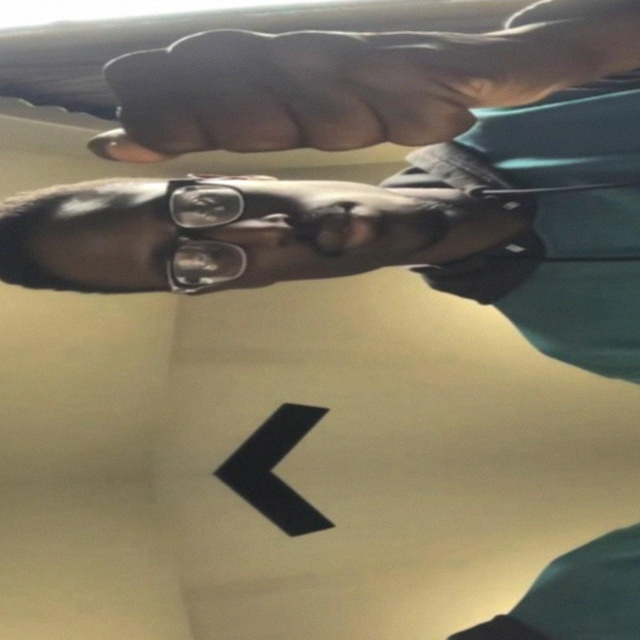Rock: (80, 11, 590, 167)
